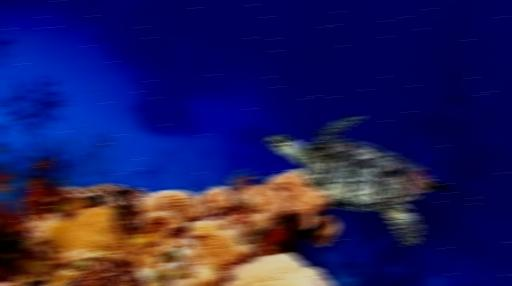Fish: (267, 115, 444, 247)
